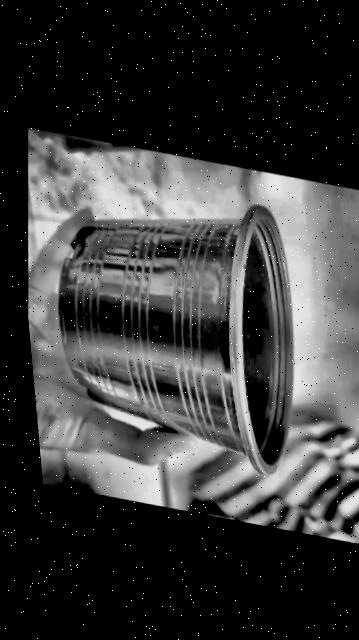pot: (56, 205, 292, 475)
